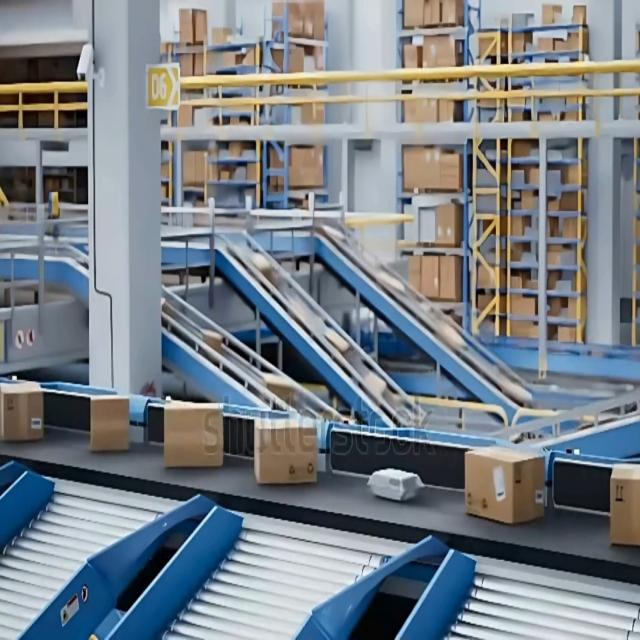product 1: (253, 415, 318, 485), (163, 400, 224, 468), (89, 394, 130, 452)
product 2: (367, 466, 424, 502)
